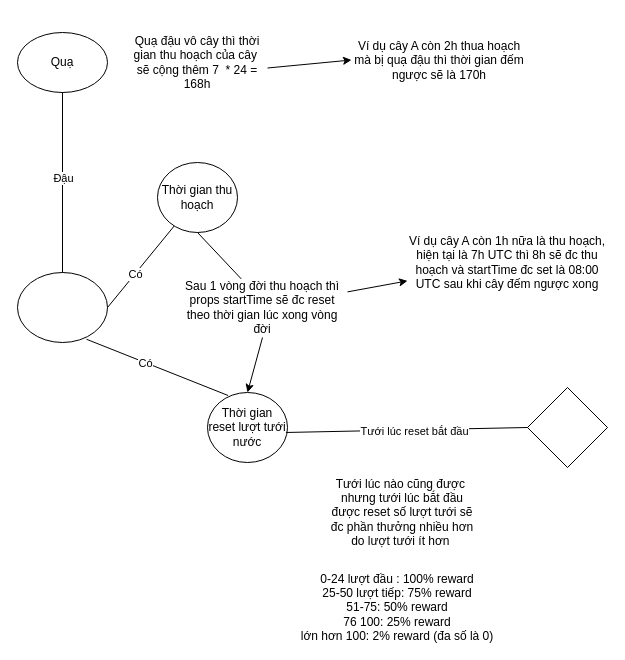
Some shapes in this 625 by 660 pixel diagram are drawn without their labels. The shapes that lost their labels are listed below. From the top down, each one's centre as x and y in pixels, then its label:
At [62,307]: "Cây".
At [567,427]: "Tưới cây".
